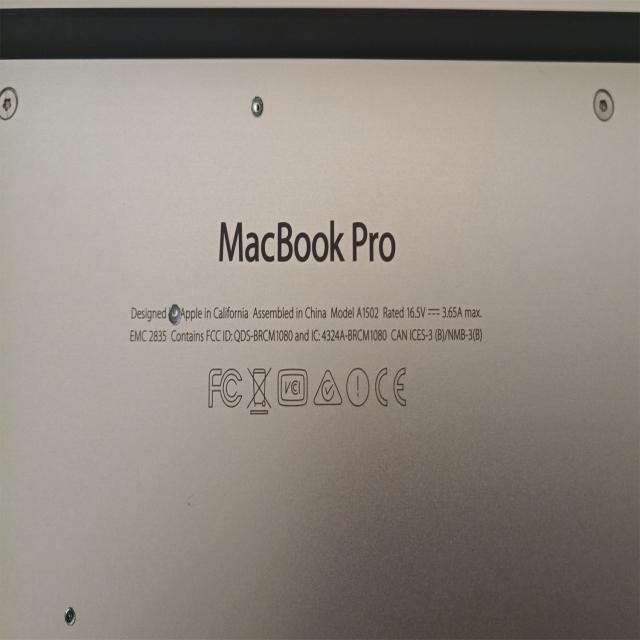lock: (64, 607, 76, 626)
missing_screw: (250, 95, 263, 117), (168, 304, 181, 325)
